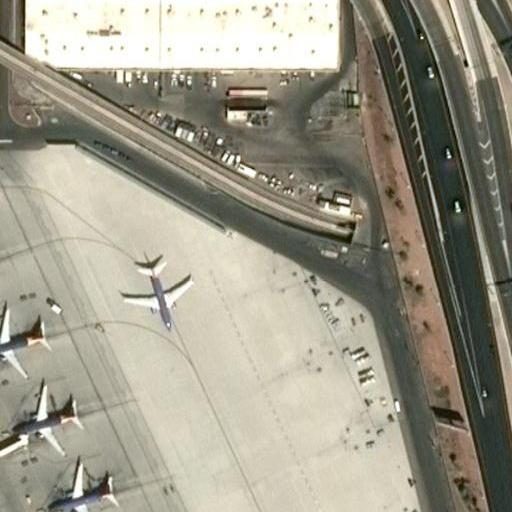Aircraft: (119, 242, 192, 328), (10, 373, 86, 447), (43, 452, 120, 512), (0, 301, 46, 374)
